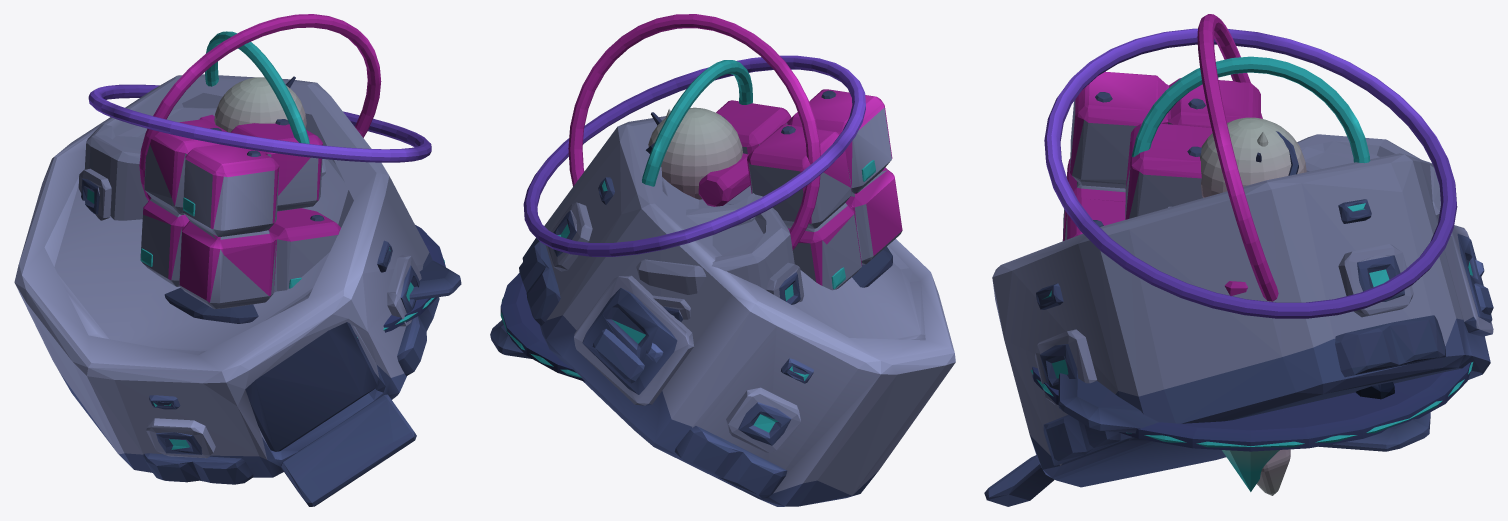
File: core-s2-C8K_CsKm.glb
3 views of the same model, side by side, from view 1: azimuth 30°, elevation 25°; view 2: azimuth 150°, elevation 25°; view 3: azimuth 270°, elevation 25° (orthographic). The views are drawn at different scales.
Parts seen in each view (by area): view 1: sc_debris_1, sc_z0_1, sc_z2_1; view 2: sc_debris_1, sc_z0_1, sc_z2_1, sc_z3_1; view 3: sc_debris_1, sc_z0_1, sc_z2_1, sc_z3_1, sc_z1_1.
Part boxes in pixels (<box>): sc_debris_1: <box>14,74,439,506</box>; sc_z0_1: <box>78,119,461,340</box>; sc_z2_1: <box>88,14,431,200</box>; sc_debris_1: <box>519,116,955,506</box>; sc_z0_1: <box>490,89,902,381</box>; sc_z2_1: <box>523,14,865,256</box>; sc_z3_1: <box>646,112,762,226</box>; sc_debris_1: <box>984,153,1493,506</box>; sc_z0_1: <box>1030,71,1473,491</box>; sc_z2_1: <box>1044,14,1457,318</box>; sc_z3_1: <box>1166,131,1394,411</box>; sc_z1_1: <box>1257,131,1290,495</box>.
Size of the model in its own units: 13.99 by 14.99 by 13.62.
